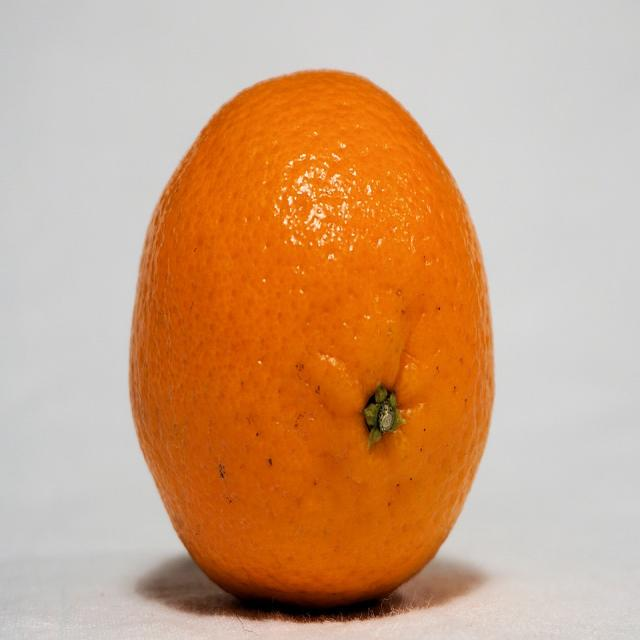Orange: (135, 69, 492, 599)
